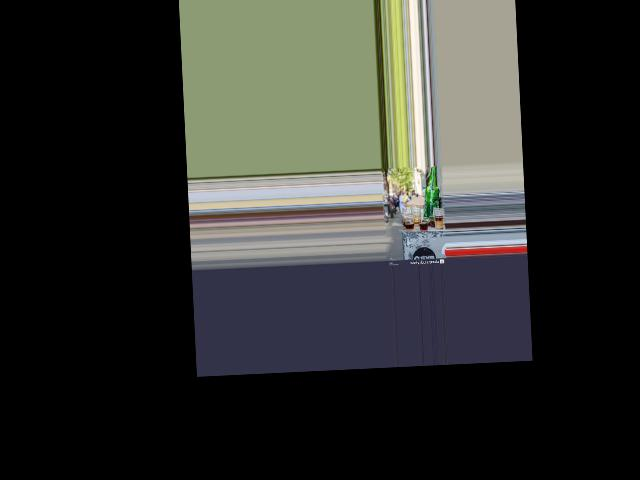beer: (420, 166, 440, 224)
